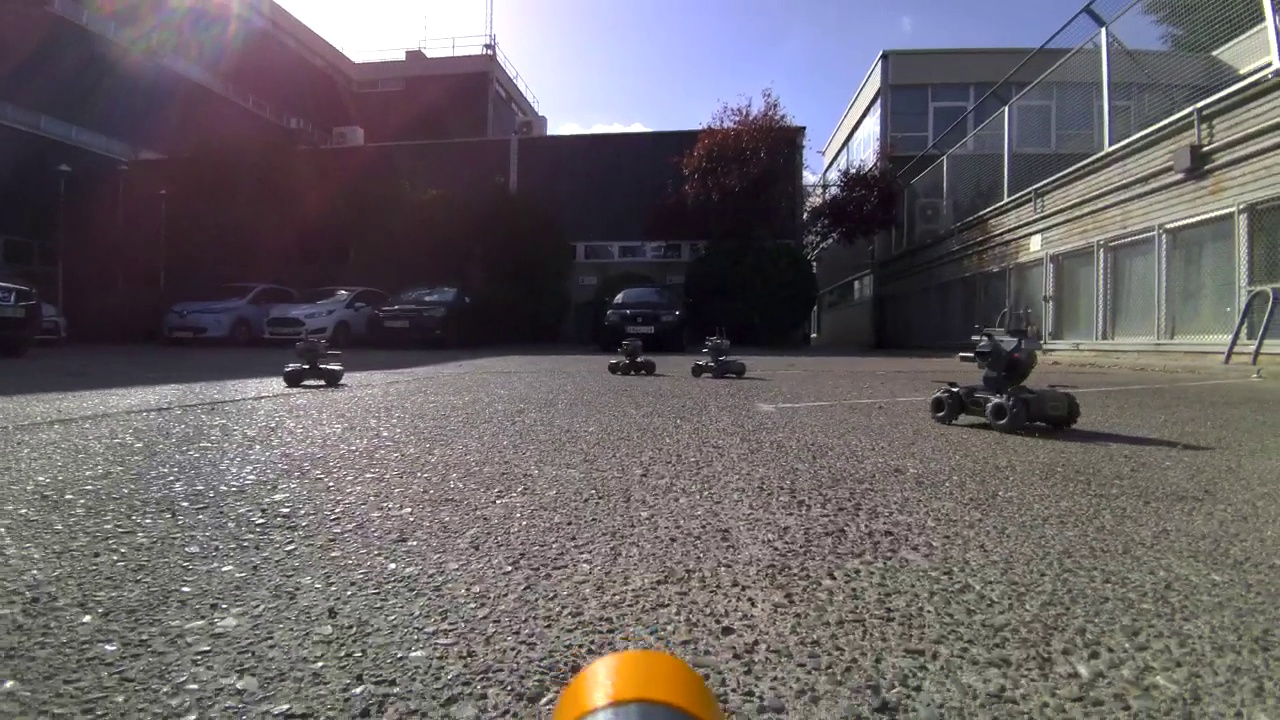robot: (924, 307, 1095, 438), (283, 327, 352, 390), (691, 332, 746, 377), (610, 332, 655, 379)
